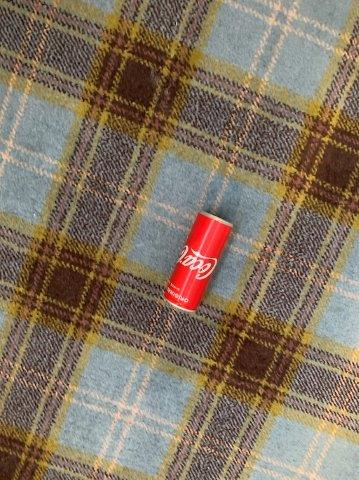kaleng: (164, 212, 233, 312)
